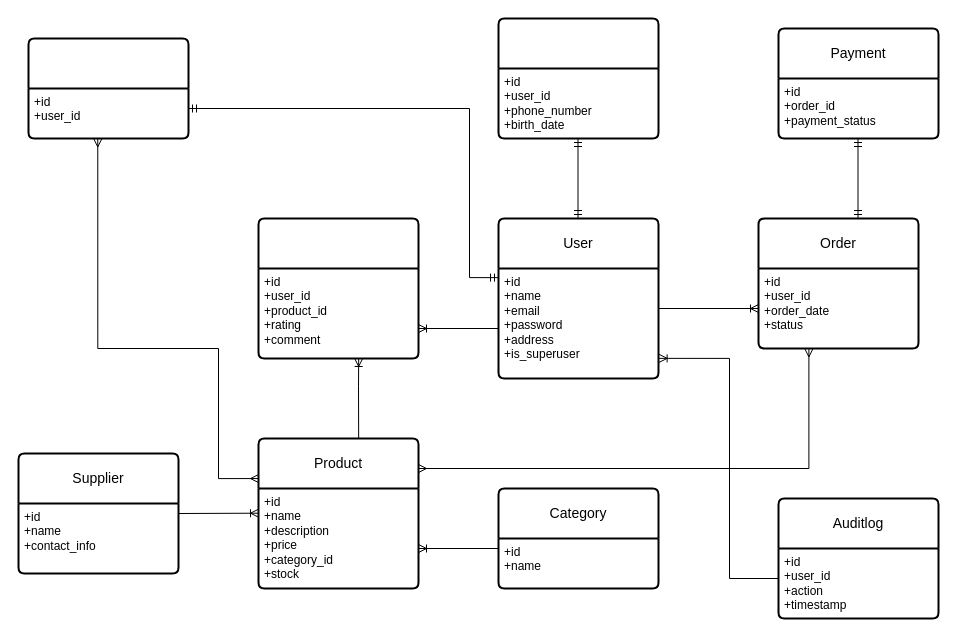
Image size: 956x636. Some labels were removed from this diagram. The shapes that lost their labels are listed below. From the top down, each one's box as (x1, y1, x2, y2) in pixels, then its label:
(27, 37, 189, 139): Cart
(497, 17, 659, 139): Client
(257, 217, 419, 359): Review
